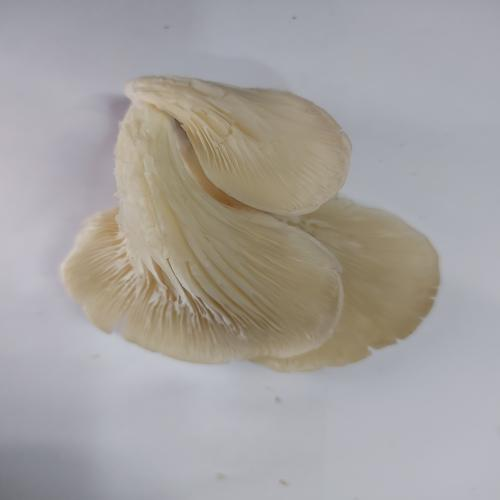Oyster Mushroom: (60, 74, 441, 372)
